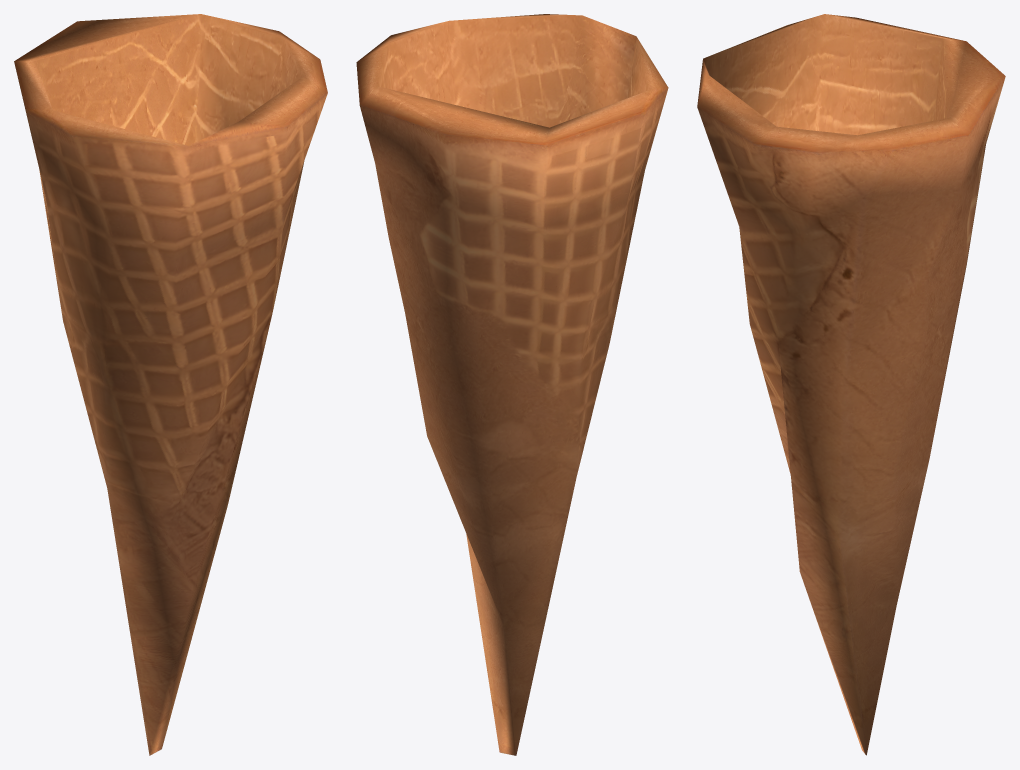
Rendered from Meshy_AI_Ice_Cream_Cone_0619010621_texture.fbx.
3 views of the same model, side by side, from view 1: azimuth 30°, elevation 25°; view 2: azimuth 150°, elevation 25°; view 3: azimuth 270°, elevation 25° (orthographic).
Visible parts, largest first — view 1: Mesh_0; view 2: Mesh_0; view 3: Mesh_0.
Boxes of the visible parts, bbox=[...] form: Mesh_0: bbox=[14, 14, 327, 755]; Mesh_0: bbox=[356, 14, 668, 755]; Mesh_0: bbox=[697, 14, 1005, 755].
Bounding box in the file's own units: 79.6 × 190 × 78.12.
Materials: 1 (1 with a texture image).
